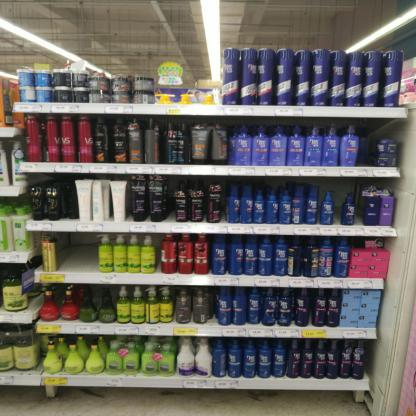Void: (56, 236, 95, 274), (360, 127, 371, 168)
